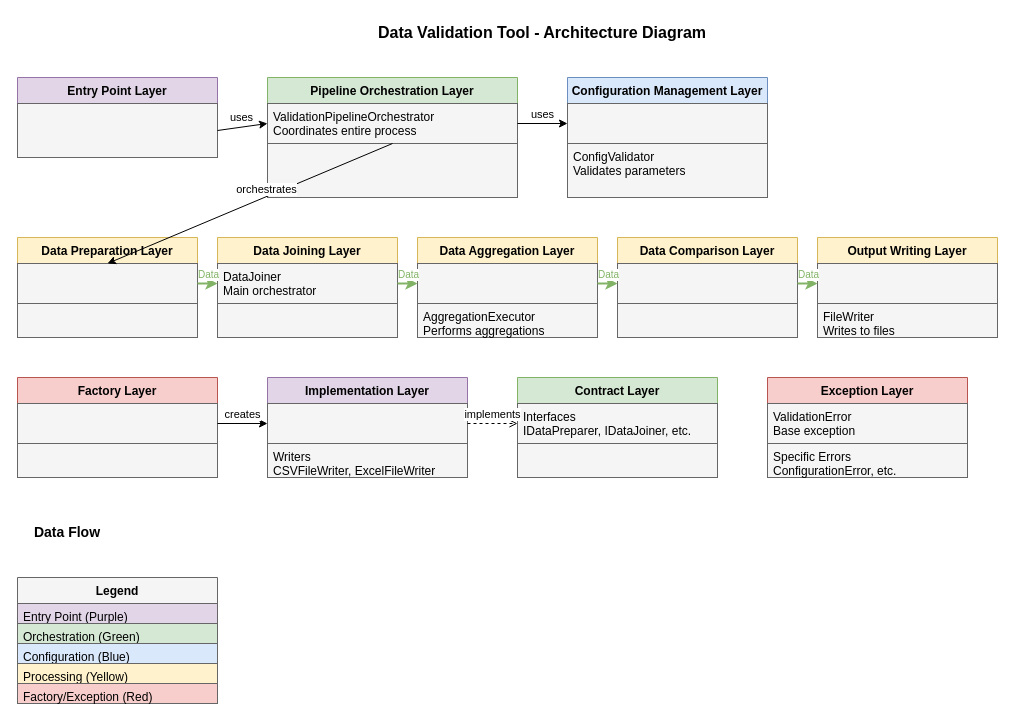
The diagram is 1015 pixels wide and 723 high, and some of its shapes have lost their labels. Here are the shapes that lost their labels. From the top down, the centre of each, then its label:
At (x=117, y=130): "run_validation.py Main entry point".
At (x=667, y=123): "ConfigurationService Centralized config handling".
At (x=392, y=170): "DependencyContainer Manages component lifecycle".
At (x=107, y=283): "DataPreparer Main orchestrator".
At (x=507, y=283): "DataAggregator Main orchestrator".
At (x=707, y=283): "DataComparer Main orchestrator".
At (x=907, y=283): "OutputWriter Main orchestrator".
At (x=107, y=320): "DataLoader Loads various formats".
At (x=307, y=320): "JoinExecutor Performs joins".
At (x=707, y=320): "ComparisonExecutor Performs comparisons".
At (x=117, y=423): "DataProcessorFactory Main factory".
At (x=367, y=423): "Readers CSVReader, ExcelReader".
At (x=117, y=460): "Reader/Writer Factories Create components".
At (x=617, y=460): "Contracts Define component behavior".
